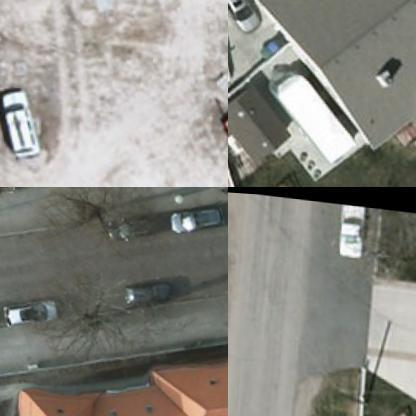camping car: (260, 58, 356, 156)
car: (0, 80, 45, 160), (103, 200, 150, 244), (168, 193, 218, 228), (3, 290, 54, 324), (124, 268, 172, 296), (228, 0, 267, 26)
pickup: (336, 199, 368, 256)
